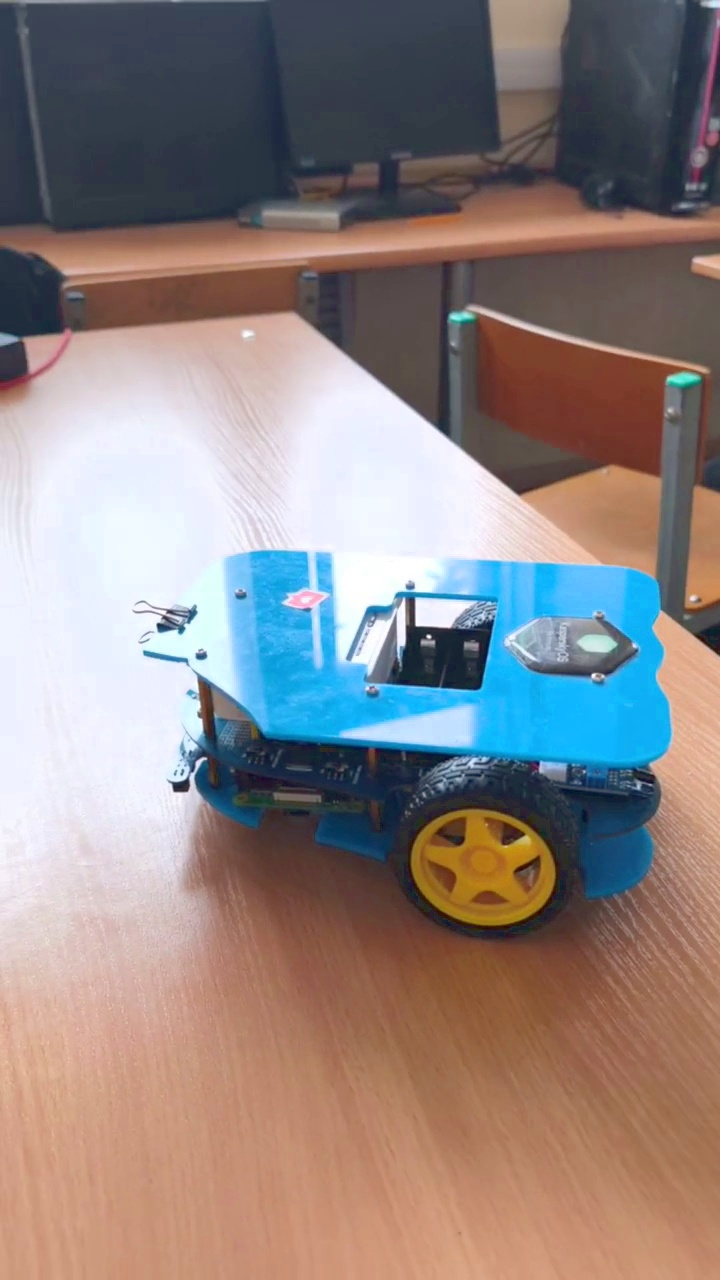robot: (132, 546, 678, 943)
